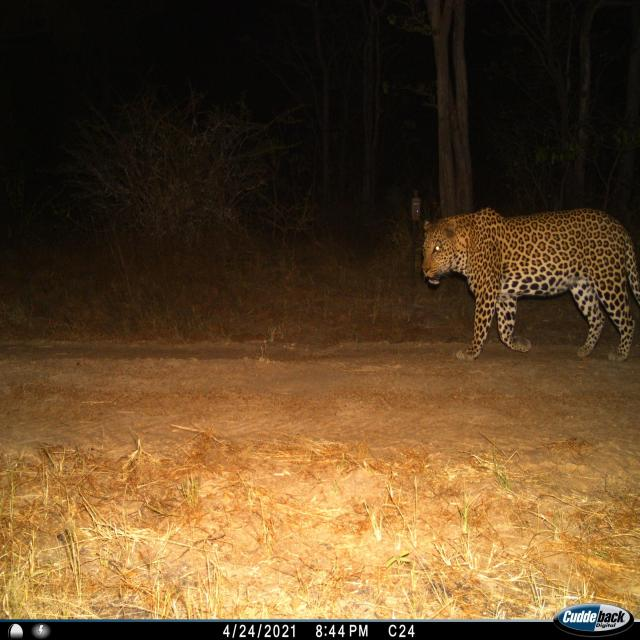Leopard: (414, 201, 640, 368)
